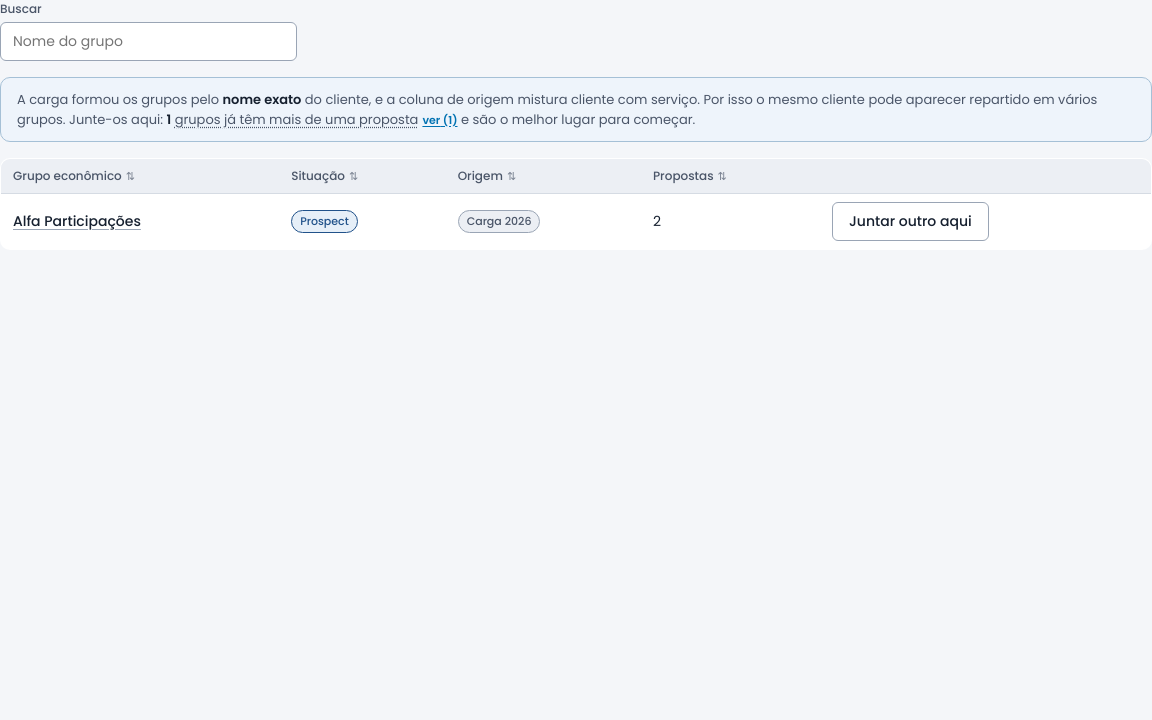
Test: Grupos › o botão de salvar não libera com o nome em branco
Click the button "Alfa Participações". click: [77, 222]
box: [13,211,141,232]
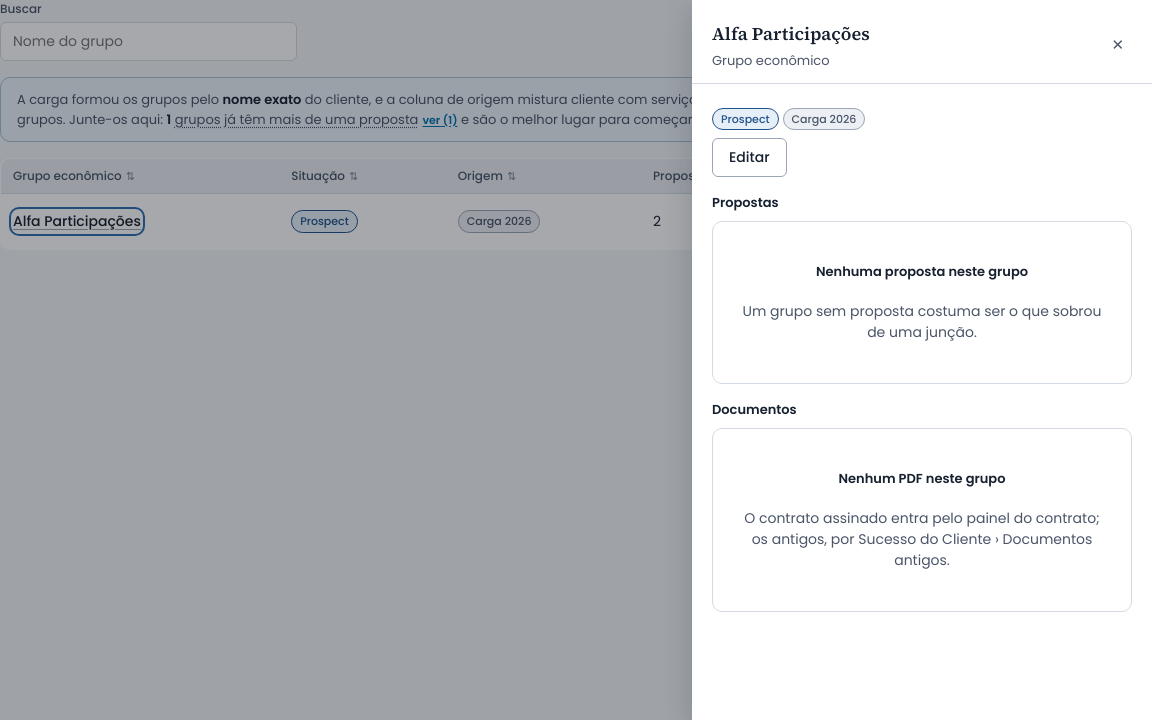
Click the button "Editar". click: [749, 158]
box: [712,138,787,177]
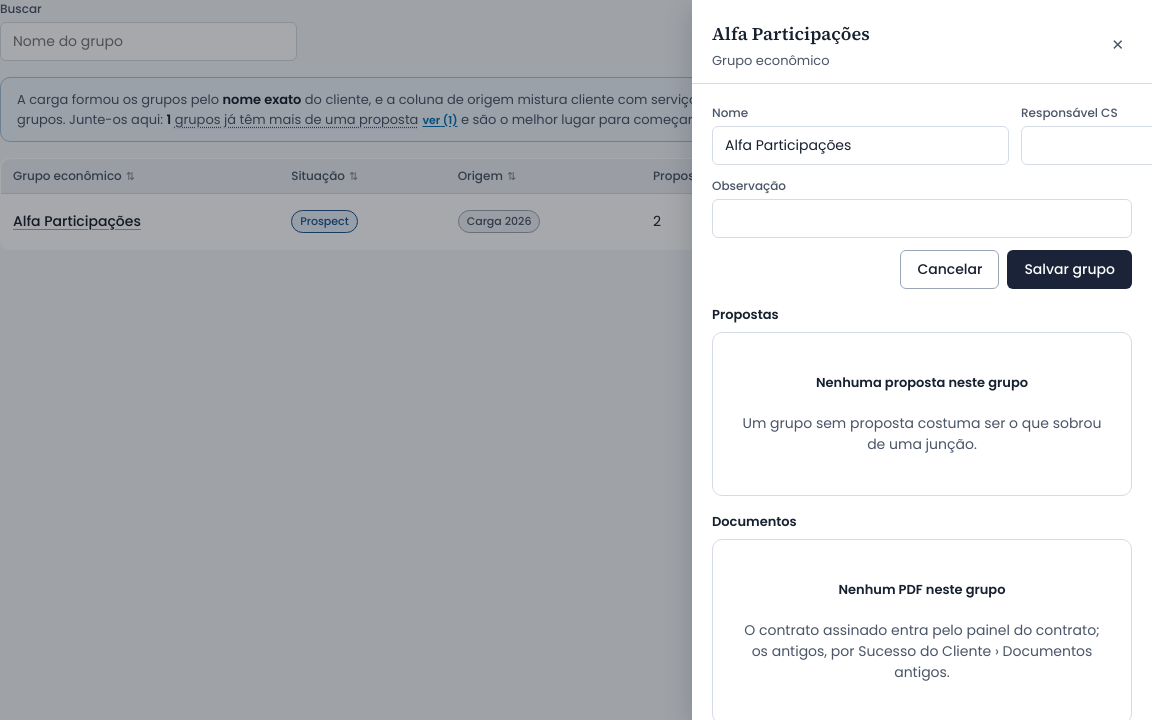
Clear the field labelled "Nome". click: [860, 145]
box: [712,126,1009,164]
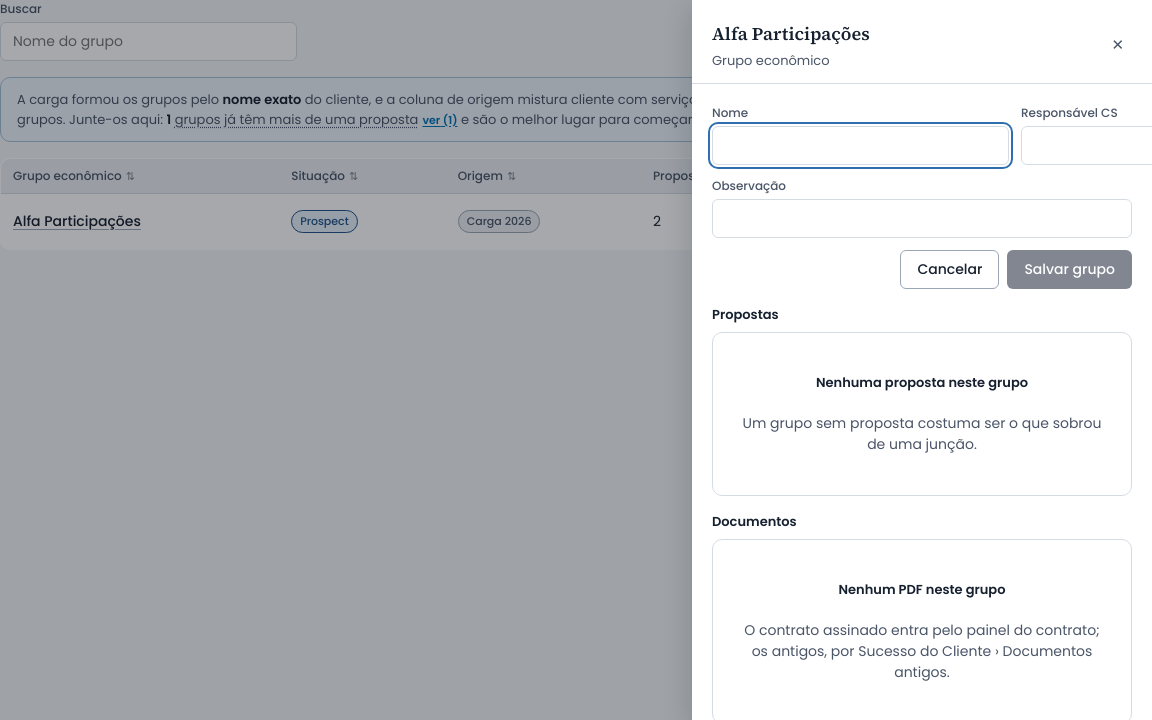
Check: the button "Salvar grupo" is disabled, box [1007,250,1132,288]
